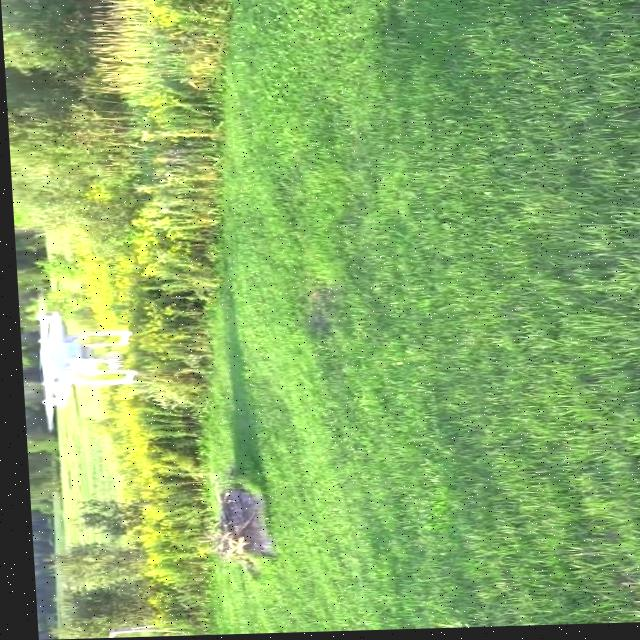drone: (24, 299, 135, 434)
